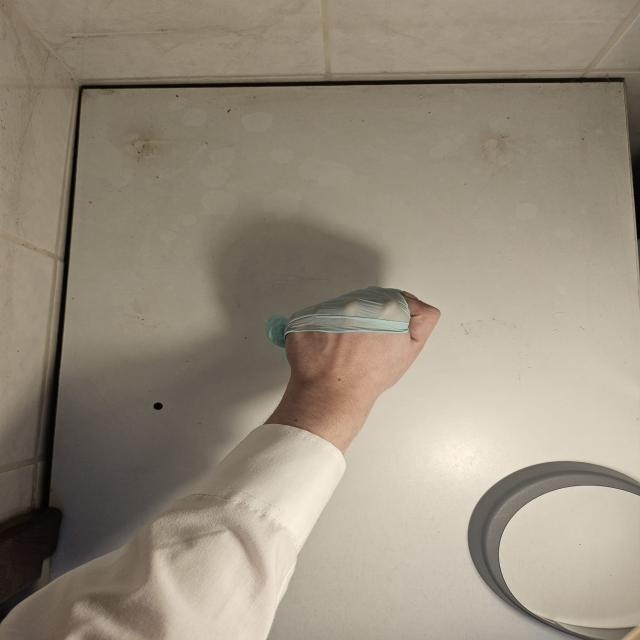glove_partial: (262, 285, 446, 398)
